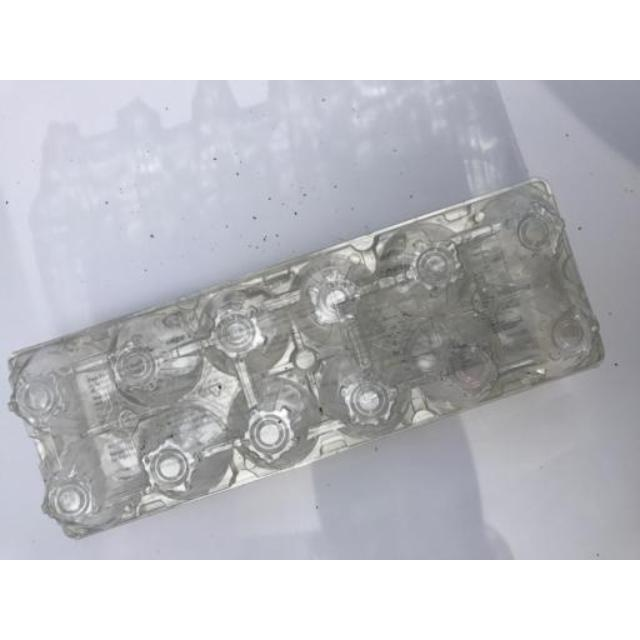plastic: (9, 179, 603, 537)
